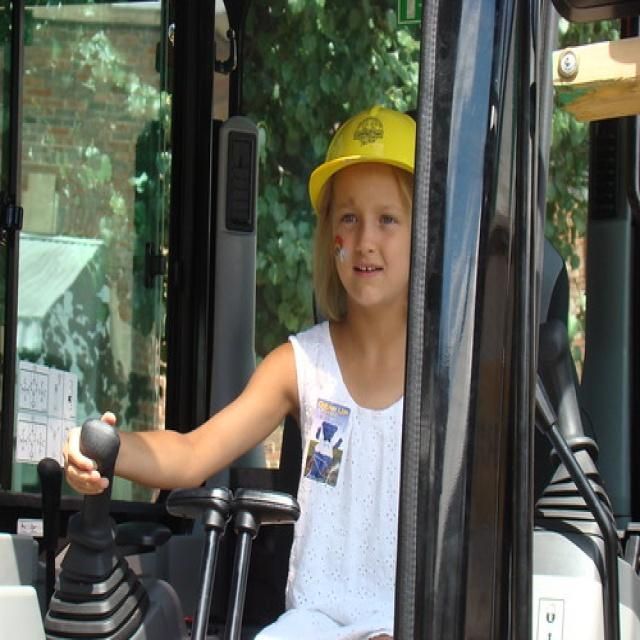helmet: (308, 124, 419, 259)
